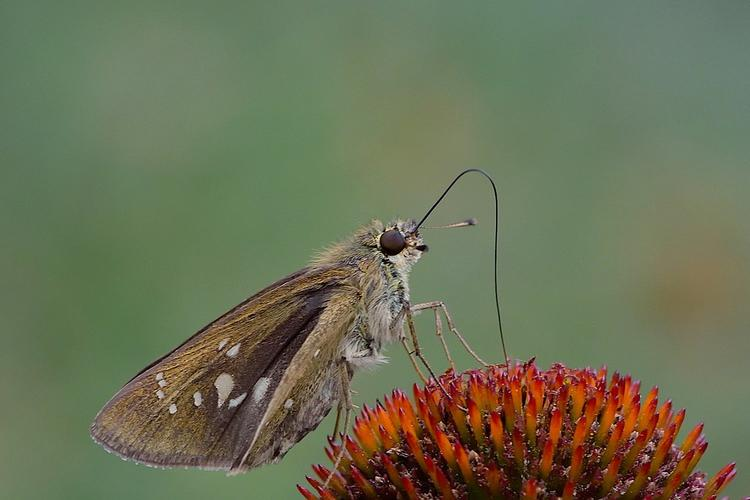Hesperiidae: (74, 155, 507, 473)
